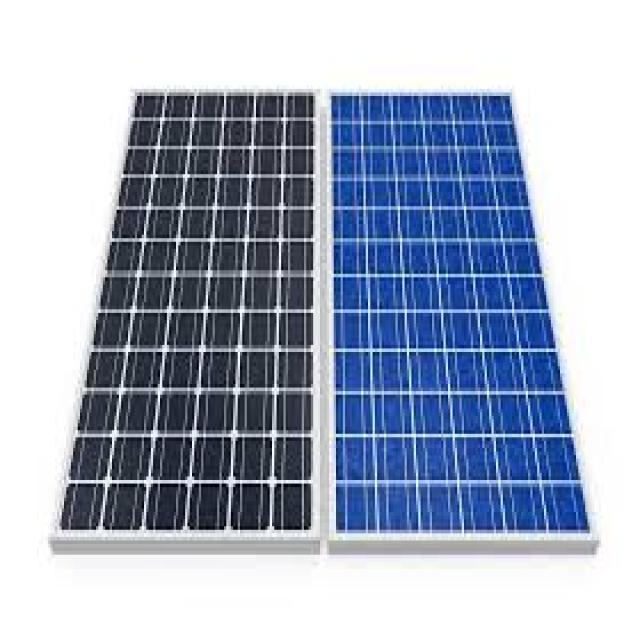clean-solar-panel: (61, 95, 314, 536), (334, 97, 586, 530)
